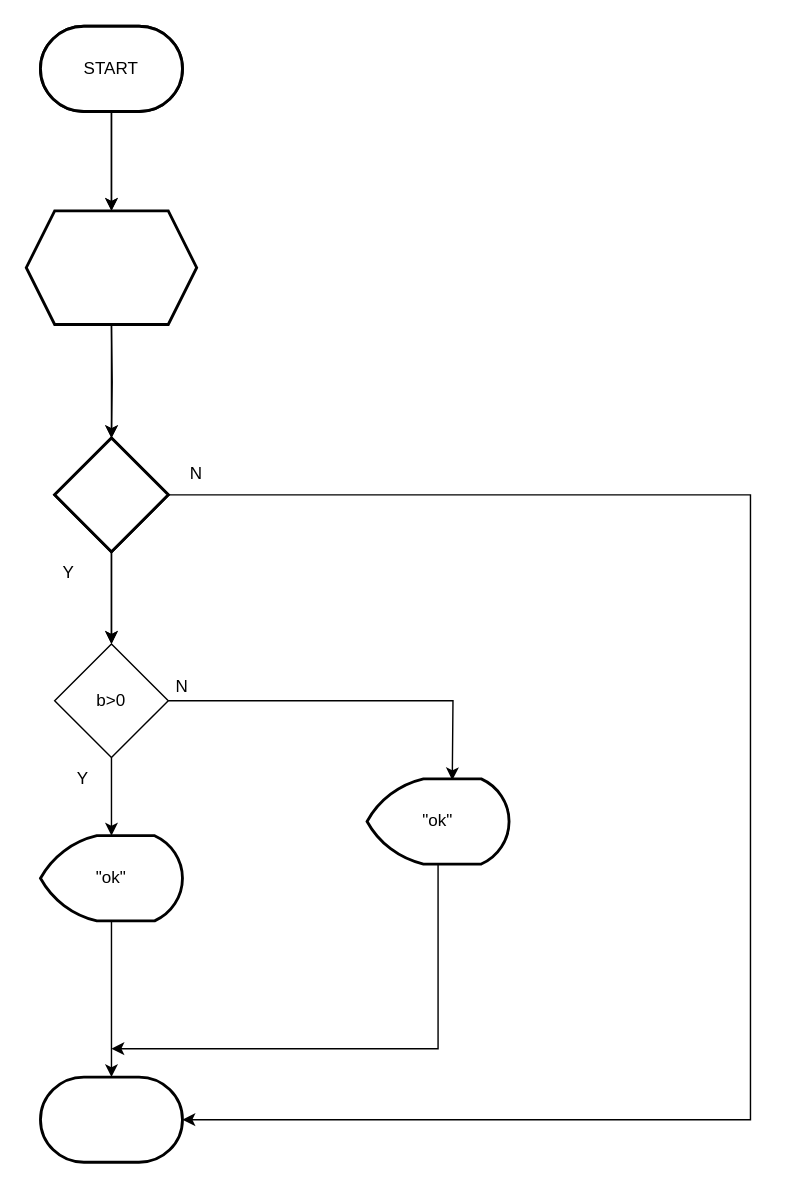
This 787x1187 diagram has some shape labels left out. Each missing label, with the box of its shape:
a < 0: (53, 436, 169, 552)
END: (38, 1075, 183, 1163)
int a = 10; int b = 20;: (24, 209, 197, 325)
